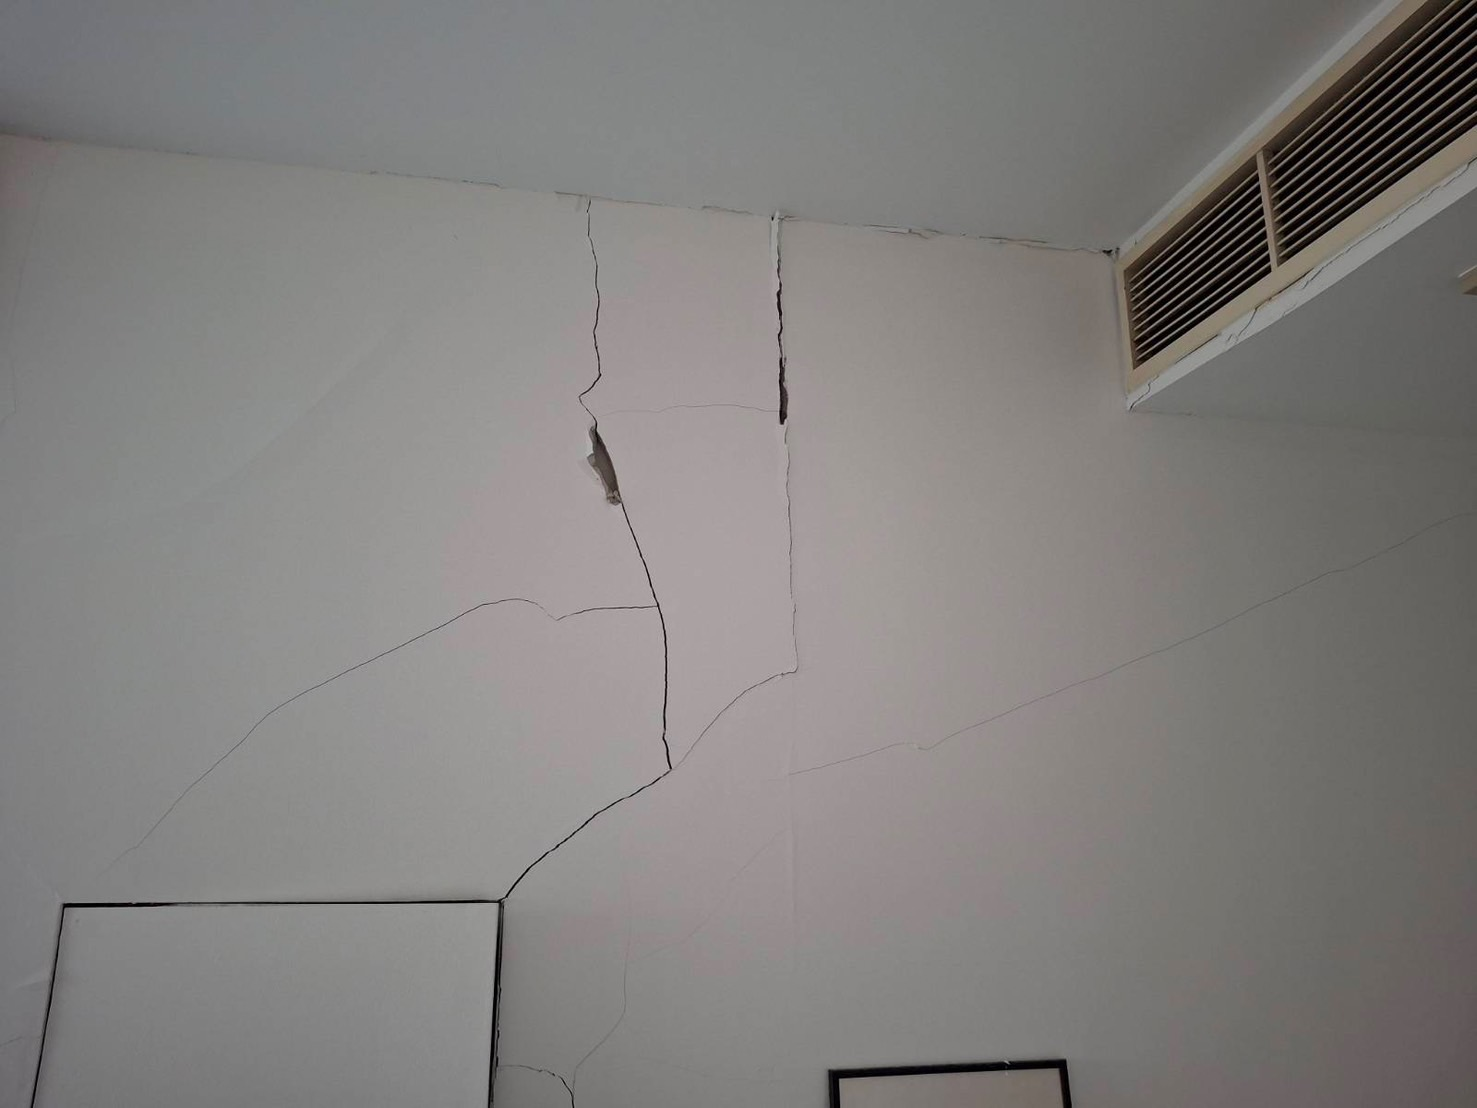Medium: (545, 212, 822, 899)
